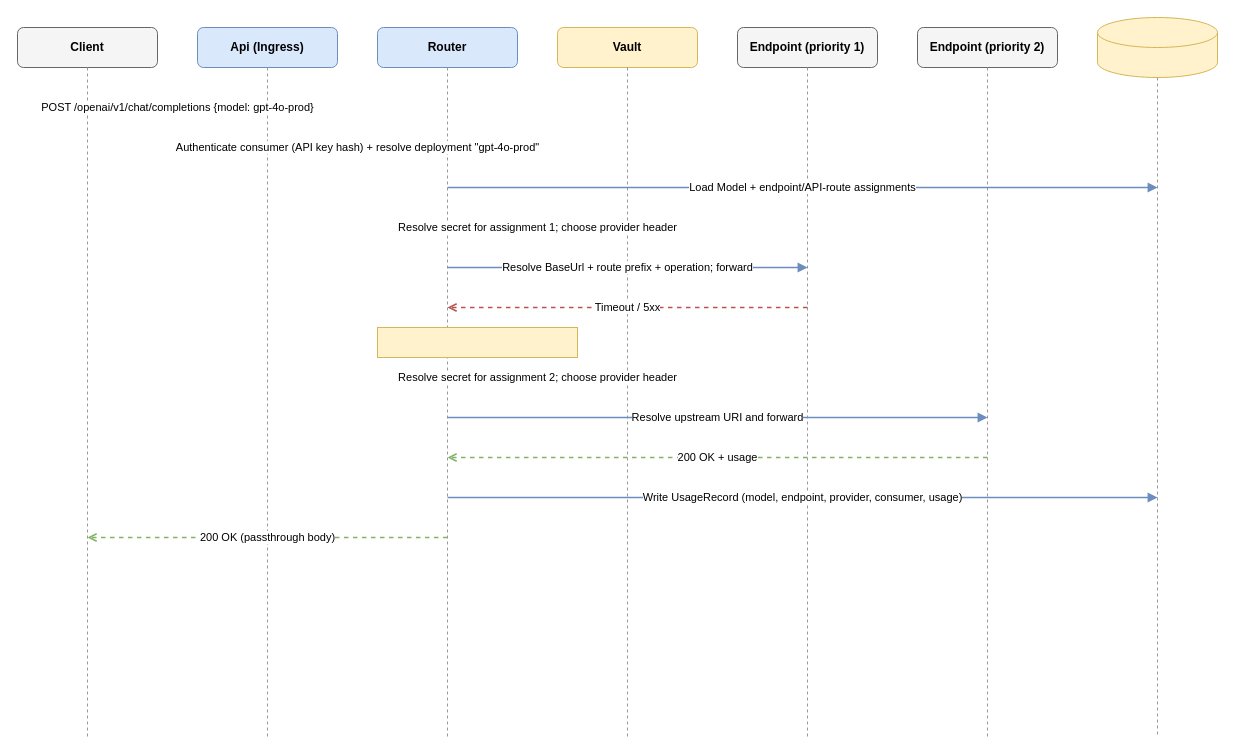
This 1235x756 diagram has some shape labels left out. Each missing label, with the centre of its shape:
Mark assignment 1 unhealthy, pick next: [477,342]
PostgreSQL: [1157,47]
